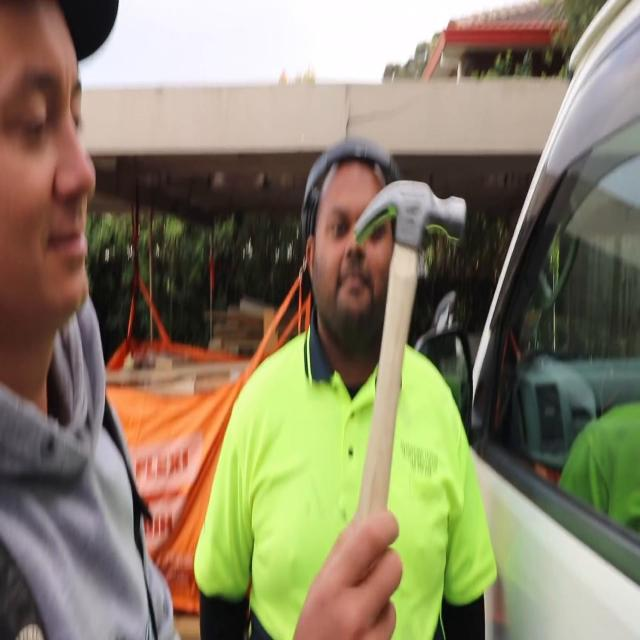hammer: (353, 179, 468, 545)
